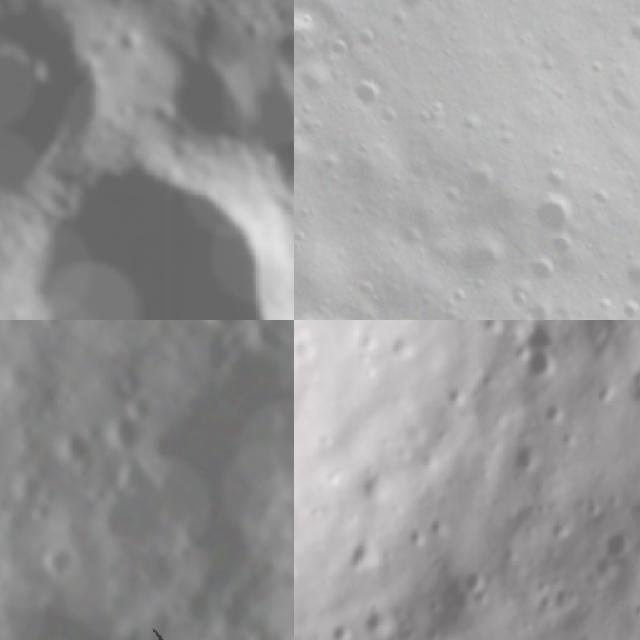crater: (15, 142, 294, 320), (0, 37, 83, 194), (170, 52, 262, 145), (237, 73, 294, 158), (47, 413, 116, 480), (528, 190, 588, 250), (96, 396, 154, 457), (294, 0, 333, 85), (36, 526, 89, 585), (4, 462, 58, 511), (464, 156, 511, 204), (346, 530, 388, 576), (525, 248, 568, 292), (519, 320, 571, 353), (520, 345, 565, 383), (346, 73, 389, 112), (511, 438, 552, 478), (385, 329, 427, 366), (540, 160, 579, 199), (113, 23, 150, 63), (603, 528, 637, 569), (548, 228, 582, 266), (361, 608, 400, 640), (271, 25, 294, 79), (324, 32, 360, 66), (355, 22, 389, 57), (507, 282, 538, 316), (590, 181, 622, 213), (398, 226, 429, 259), (386, 7, 416, 38), (353, 277, 382, 306), (544, 400, 576, 426), (624, 12, 640, 63), (622, 251, 640, 294), (525, 299, 561, 320), (461, 567, 490, 593), (533, 594, 562, 619), (554, 583, 580, 610), (327, 618, 358, 640), (390, 0, 434, 15), (617, 293, 640, 320), (207, 0, 246, 10), (294, 111, 304, 147)
